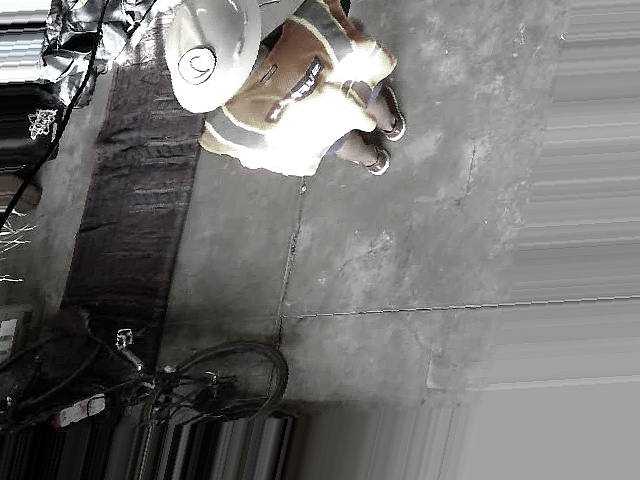two: (171, 46, 217, 88)
